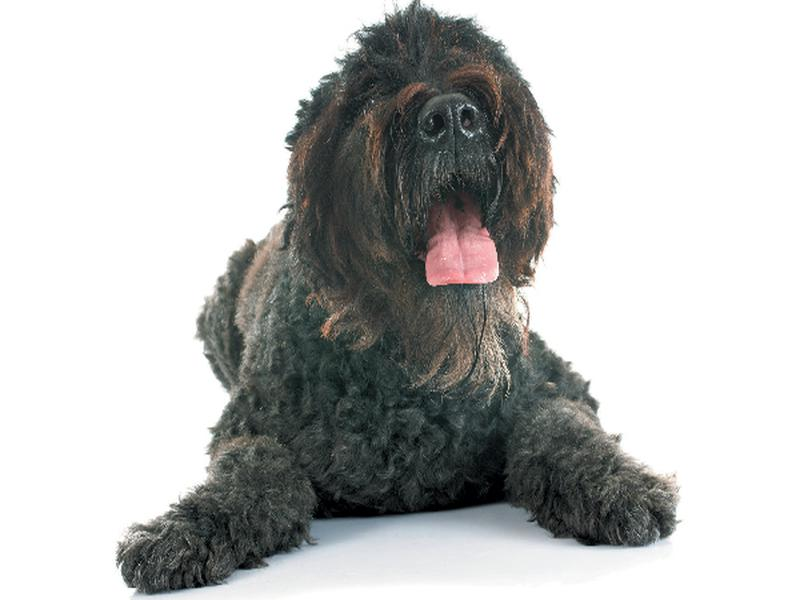dog_down: (120, 2, 682, 598)
